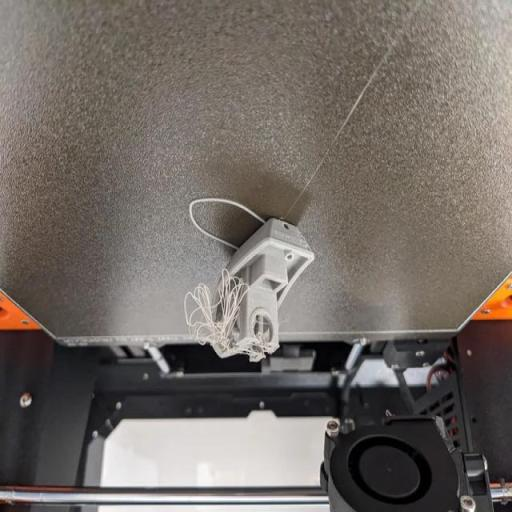spaghetti: (184, 272, 242, 346), (247, 318, 271, 366)
